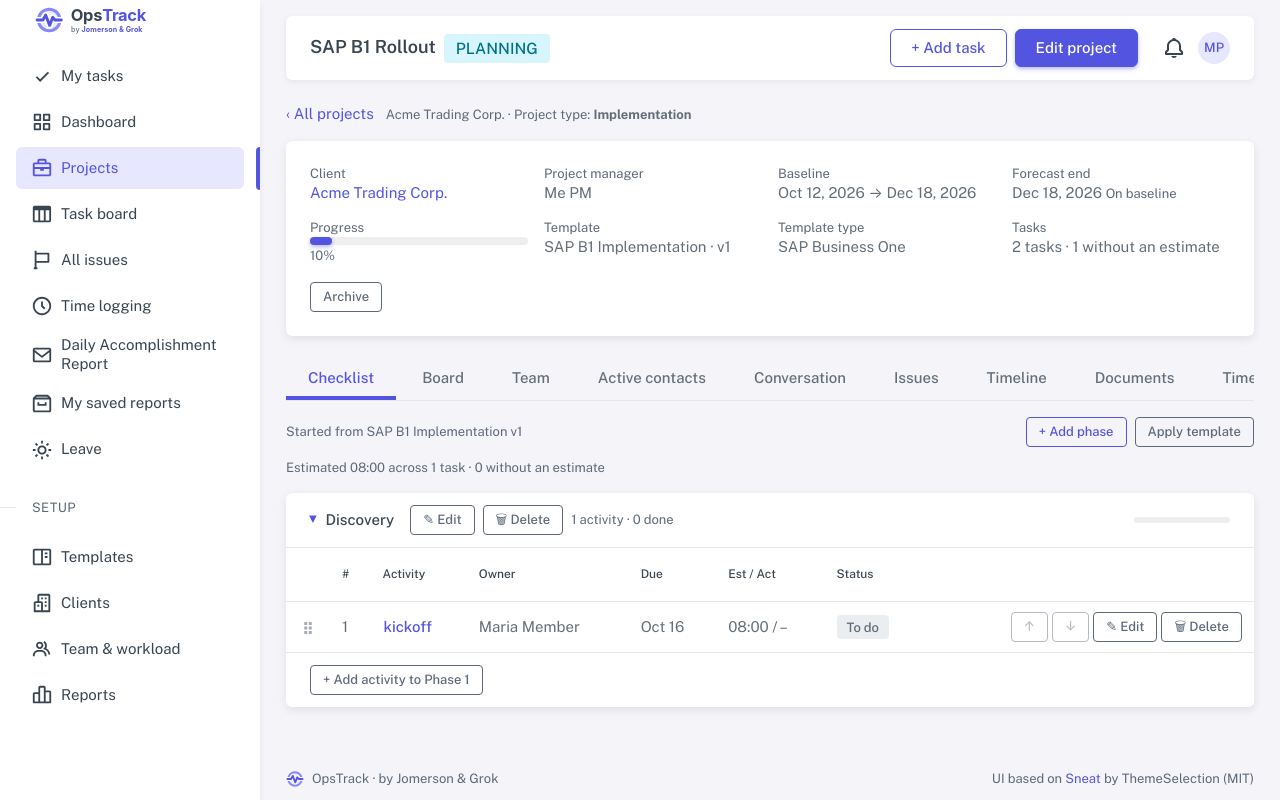
Scenario: DEF-016: applying a template that is already applied › the confirm step says it adds nothing and offers only Close
Click the button "Apply template".
click(1194, 432)  # box [1134,417,1254,447]
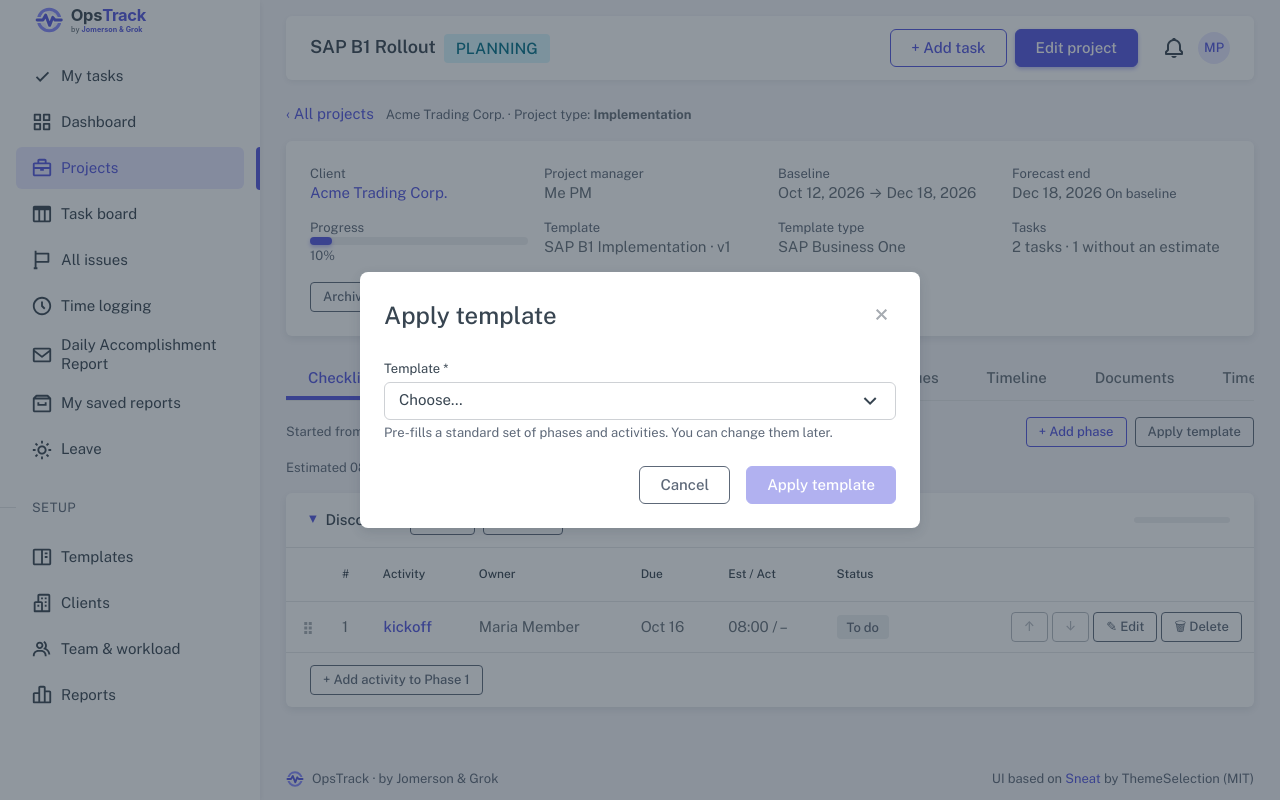
Select "ERP rollout · v3" in the dropdown labelled "Template *" at (640, 401), box [384,382,896,420]
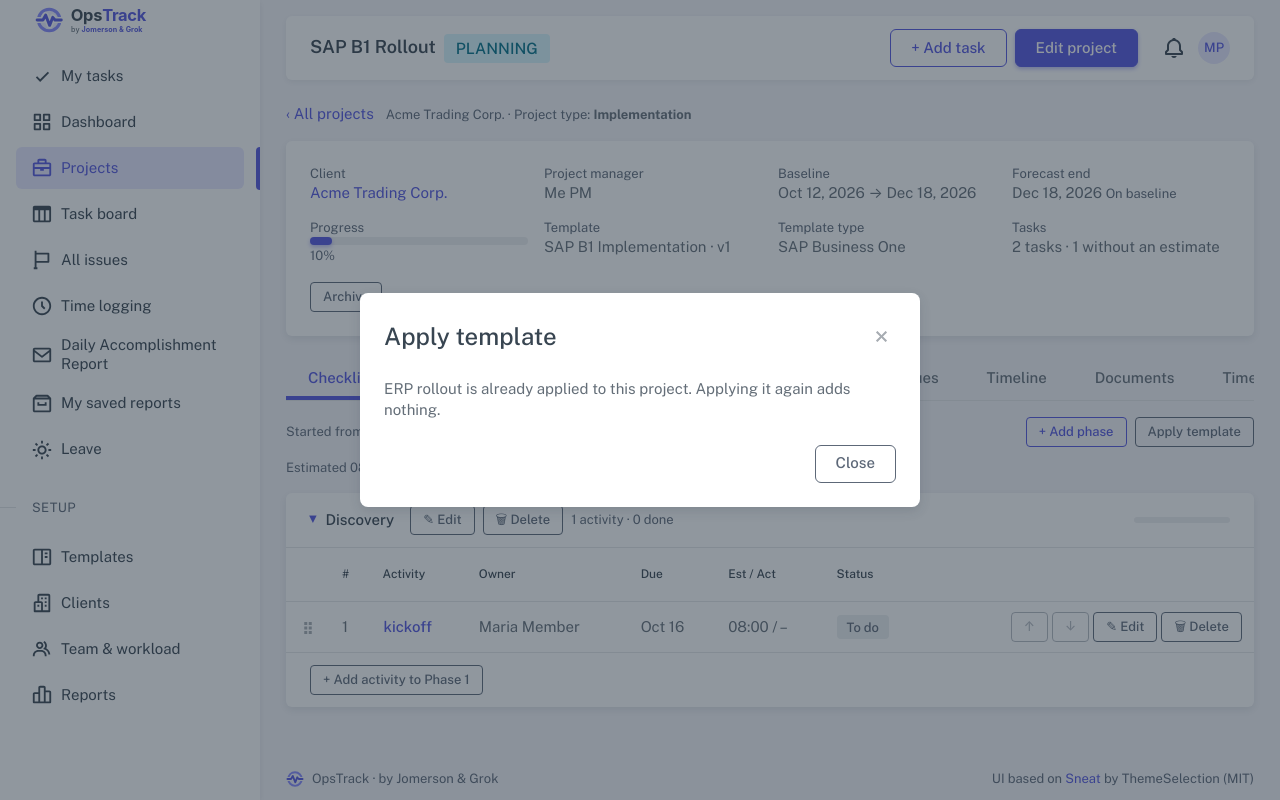
expect the text with test id "apply-already" reads "ERP rollout is already applied to this project. Applying it again adds nothing.": met, box [384,379,896,421]
